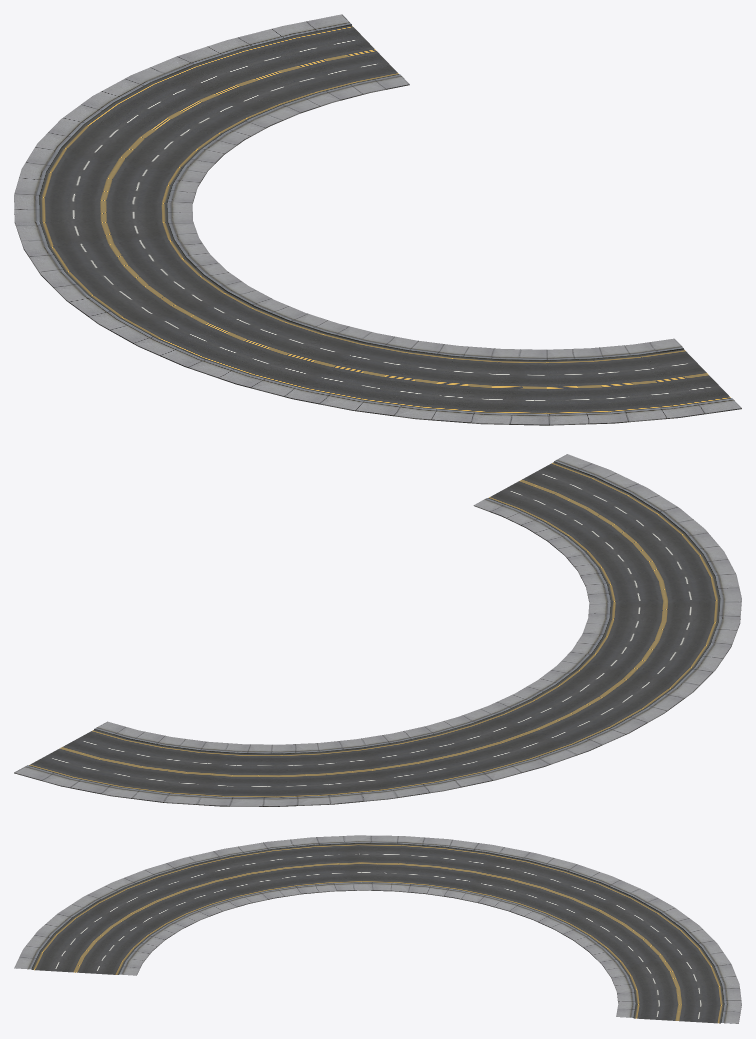
File: road3.glb
The picture shows the model from 3 angles, top to bottom: view 1: azimuth 30°, elevation 25°; view 2: azimuth 150°, elevation 25°; view 3: azimuth 270°, elevation 25°; orthographic projection. The views are drawn at different scales.
Visible parts, largest first — view 1: ro_3; view 2: ro_3; view 3: ro_3.
Boxes of the visible parts, <box> form: ro_3: <box>14,14,741,425</box>; ro_3: <box>14,454,741,806</box>; ro_3: <box>14,835,741,1023</box>.
Bounding box in the file's own units: 102 × 3.88 × 179.
1 material, 1 textured.
